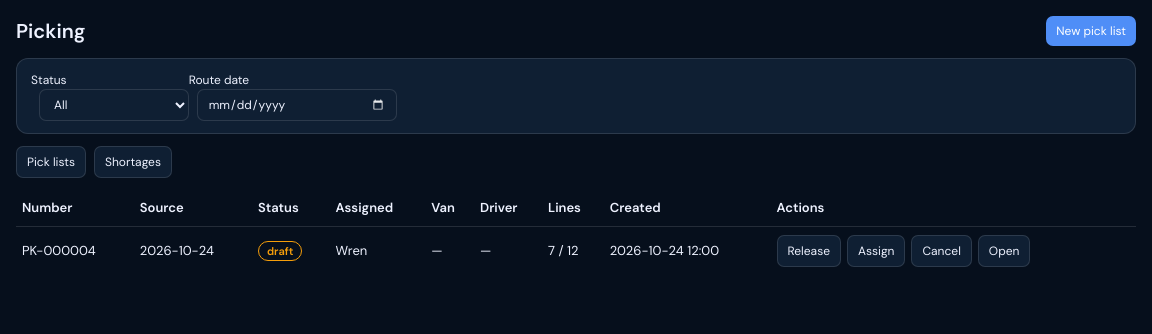
Picking board › toggles show resolved off the open query
Step 1. Click the button "Shortages" → (133, 162), box [94,146,172,178]
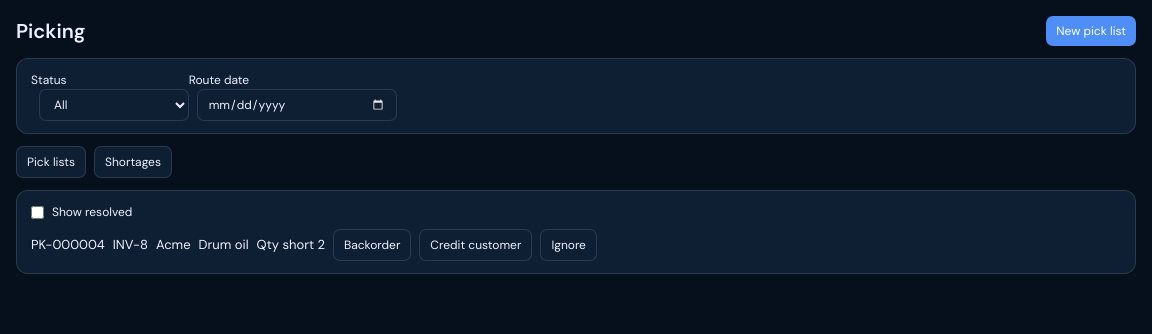
Step 2. Click the checkbox named "Show resolved" → (38, 212), box [31,206,44,218]
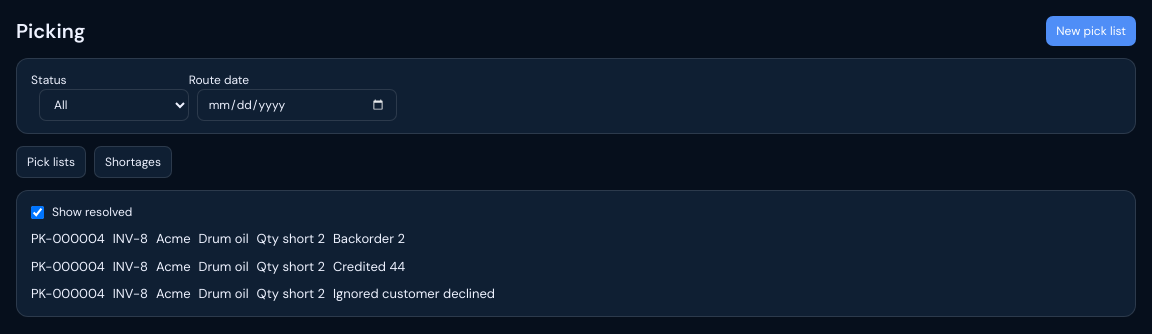
Expected: the text with test id "shortage-resolution-8" reads "Backorder 2", [333,230,405,247]
Expected: the text with test id "shortage-resolution-9" reads "Credited 44", [333,258,405,274]
Expected: the text with test id "shortage-resolution-10" reads "Ignored customer declined", [333,285,495,302]
